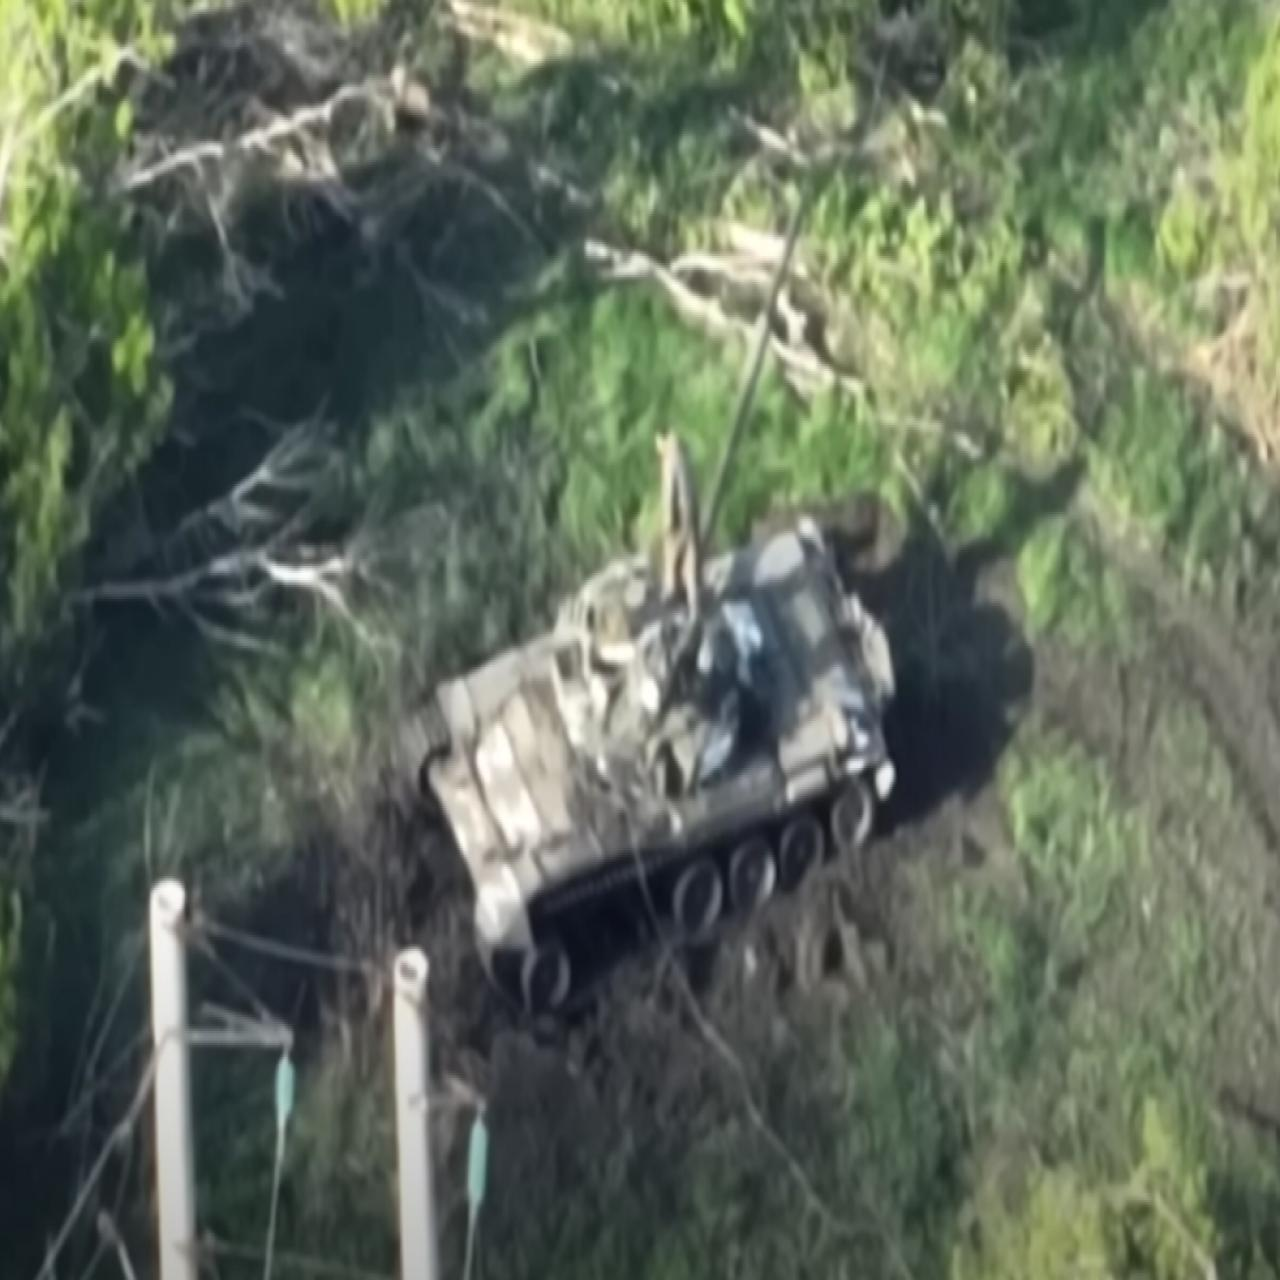MIL_Veh: (401, 193, 899, 1007)
